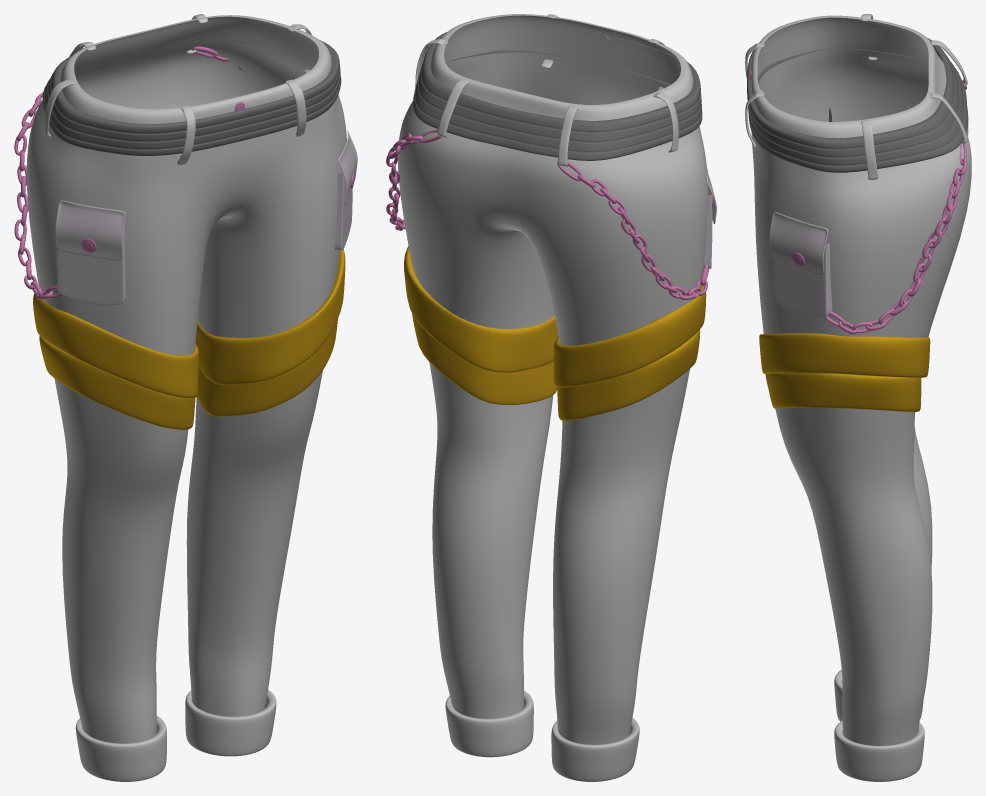
File: Female_Pants.glb
3 views of the same model, side by side, from view 1: azimuth 30°, elevation 25°; view 2: azimuth 150°, elevation 25°; view 3: azimuth 270°, elevation 25° (orthographic). The views are drawn at different scales.
Parts seen in each view (by area): view 1: Fem_Pants; view 2: Fem_Pants; view 3: Fem_Pants.
Part boxes in pixels (box(x1,y1,x2,y2)): Fem_Pants: box(14, 14, 357, 781); Fem_Pants: box(386, 14, 716, 781); Fem_Pants: box(745, 14, 971, 781).
Bounding box in the file's own units: 3.14 × 6.87 × 2.1.
